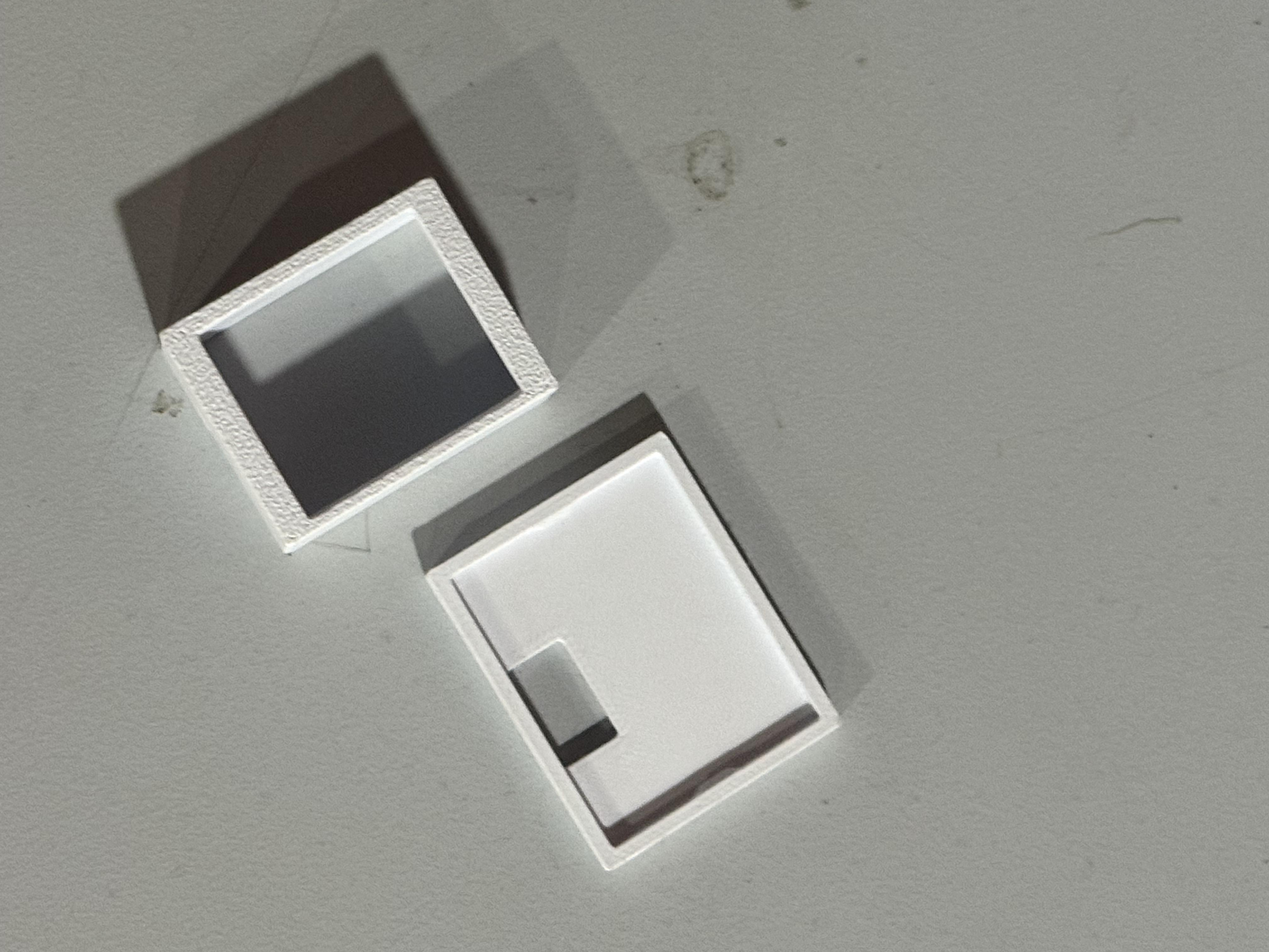enclosure: (423, 429, 842, 872), (159, 177, 560, 555)
